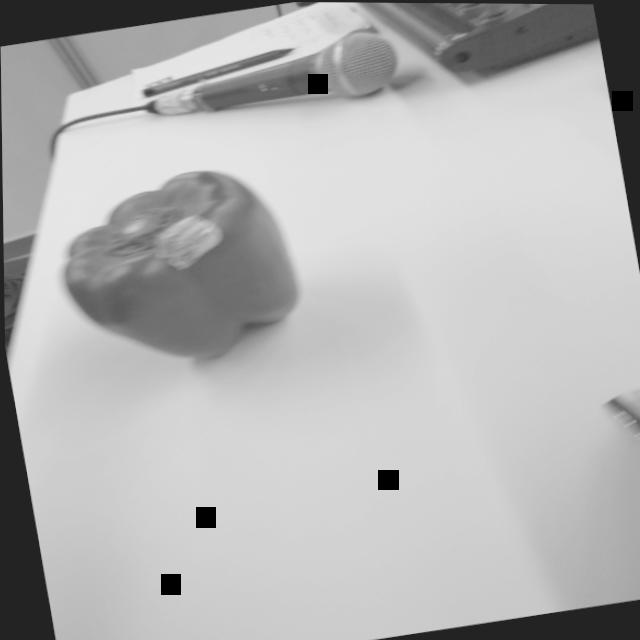paprika: (30, 147, 316, 391)
